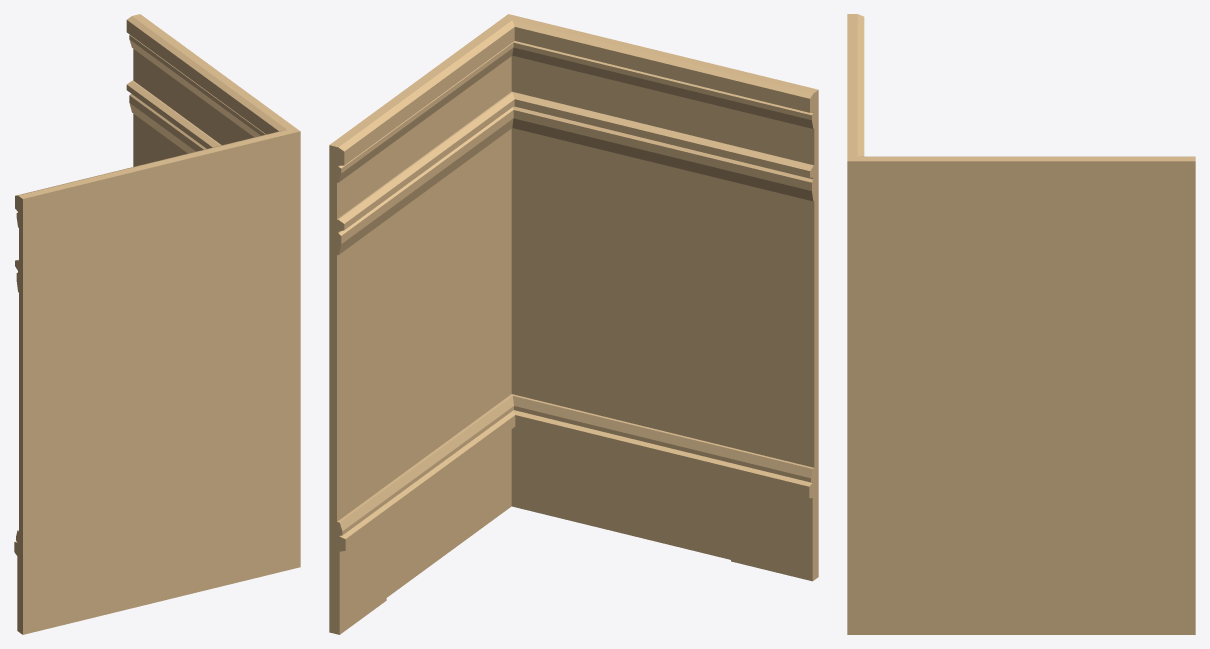
Rendered from Corner_A_INNER.fbx.
3 views of the same model, side by side, from view 1: azimuth 30°, elevation 25°; view 2: azimuth 150°, elevation 25°; view 3: azimuth 270°, elevation 25° (orthographic). The views are drawn at different scales.
Parts seen in each view (by area): view 1: Corner_A_INNER; view 2: Corner_A_INNER; view 3: Corner_A_INNER.
Boxes of the visible parts, x1,y1,x2,y2 form: Corner_A_INNER: (14,14,300,634); Corner_A_INNER: (329,14,818,634); Corner_A_INNER: (847,14,1195,634).
Size of the model in its own units: 200 by 200 by 300.
